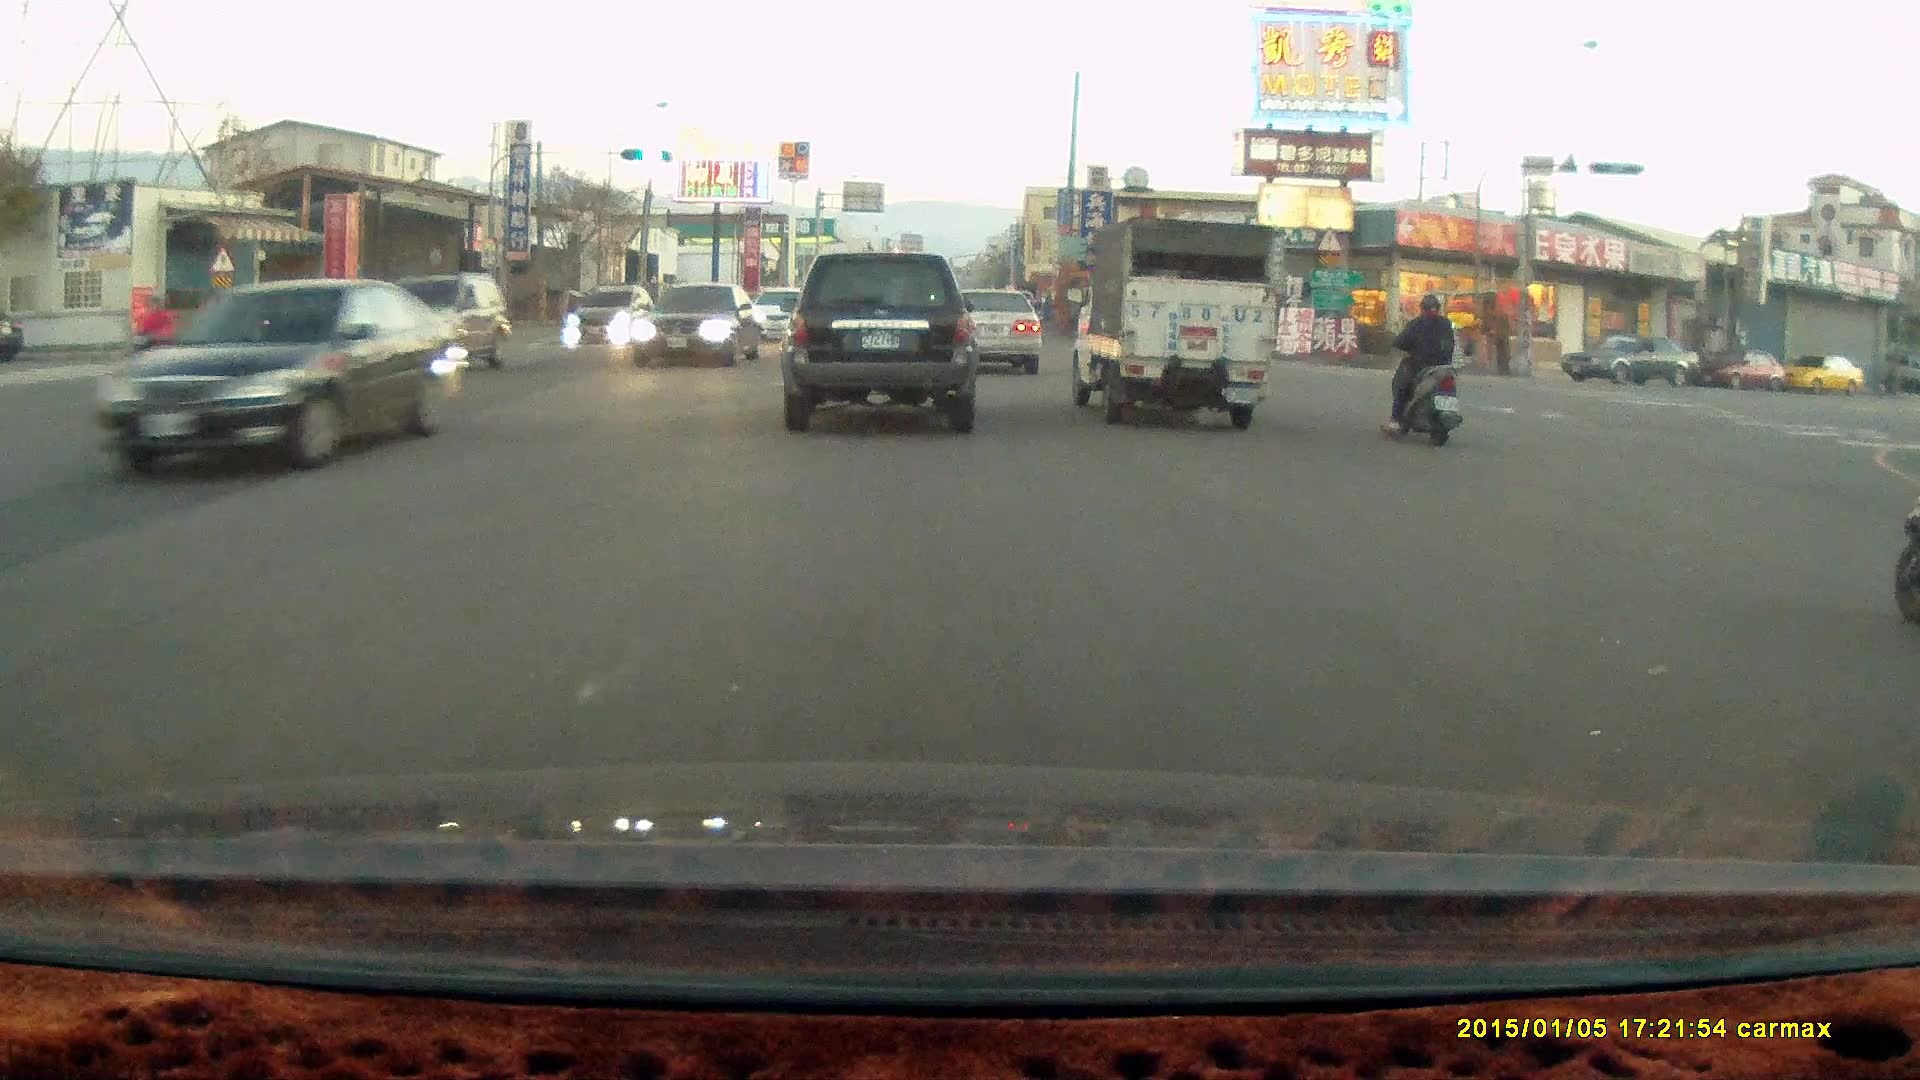rider: (1383, 293, 1462, 449), (119, 292, 184, 392)
vehicle: (93, 284, 466, 486), (1064, 213, 1281, 430), (779, 249, 977, 435), (633, 286, 767, 374), (930, 285, 1043, 378), (944, 288, 1045, 378), (1559, 333, 1706, 389), (355, 292, 465, 339), (571, 287, 654, 347), (1775, 356, 1867, 398), (1700, 351, 1789, 390)
